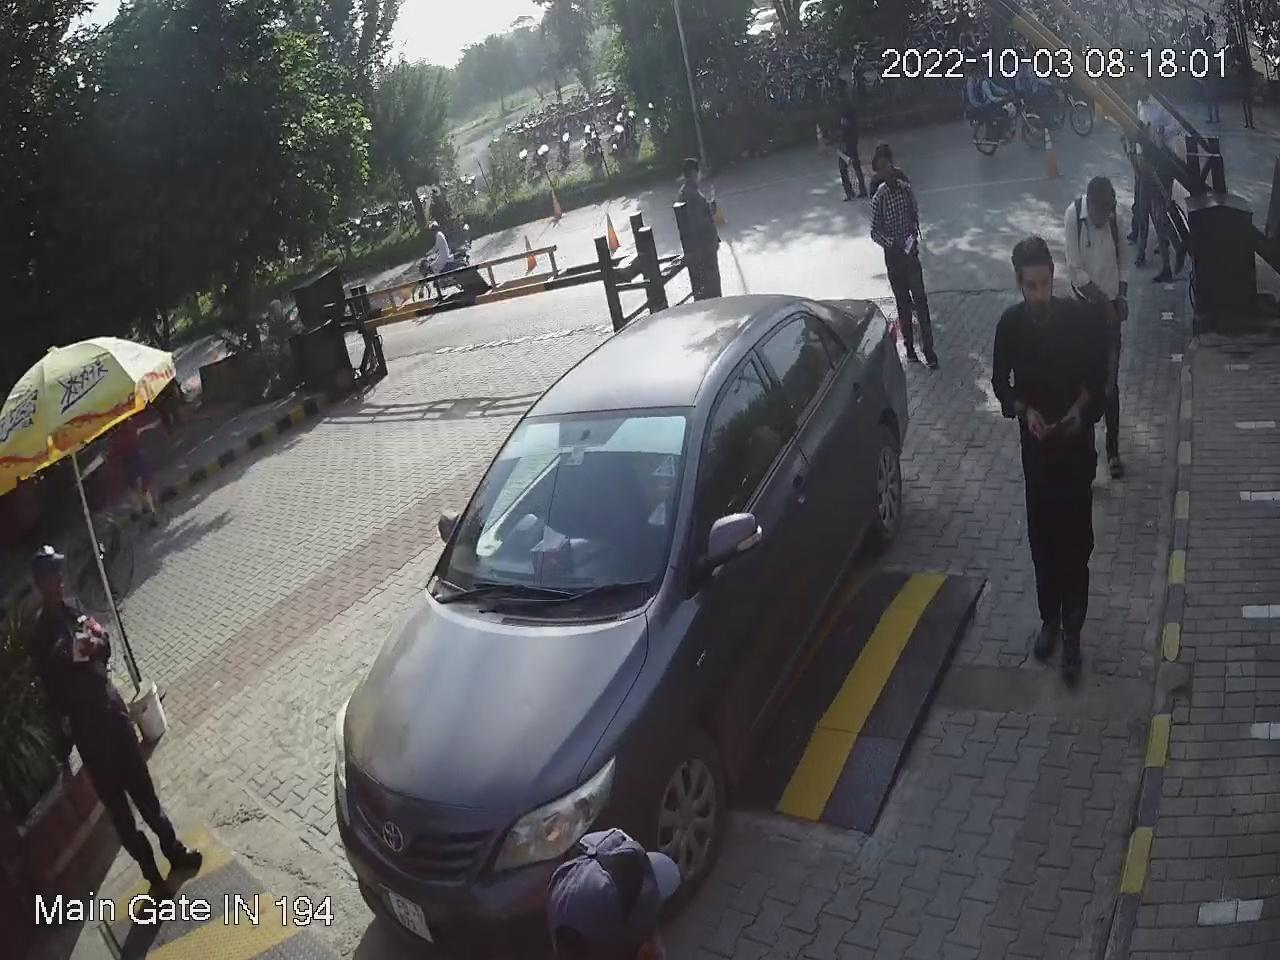windshield: (440, 402, 711, 612)
